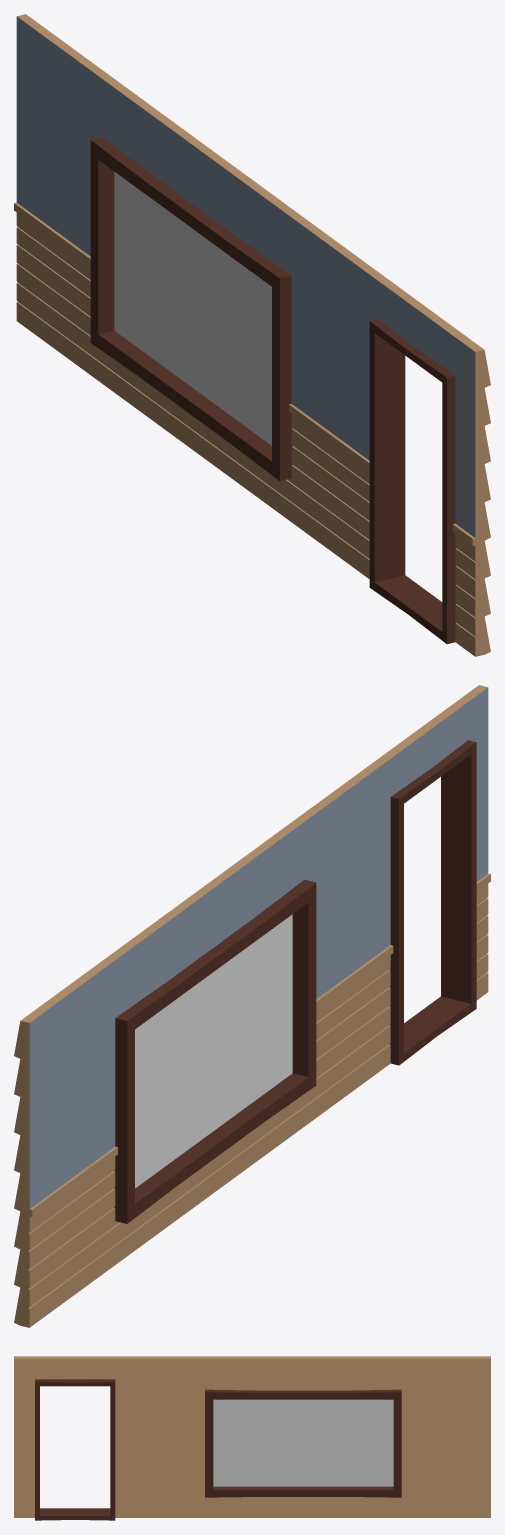
File: Door and Window B.glb
3 renders of one model, top to bottom at view 1: azimuth 30°, elevation 25°; view 2: azimuth 150°, elevation 25°; view 3: azimuth 270°, elevation 25°, orthographic. The views are drawn at different scales.
Visible parts, largest first — view 1: Door and Window B; view 2: Door and Window B; view 3: Door and Window B.
Part boxes in pixels (left/top/right/bottom): Door and Window B: left=14, top=14, right=490, bottom=656; Door and Window B: left=14, top=685, right=490, bottom=1327; Door and Window B: left=14, top=1356, right=490, bottom=1520.
Bounding box in the file's own units: 26.03 × 220 × 600.
